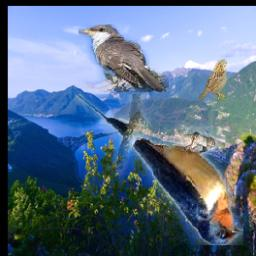Cuckoo: (78, 26, 168, 93)
Sparrow: (198, 60, 226, 102)
Swallow: (75, 94, 243, 245)
